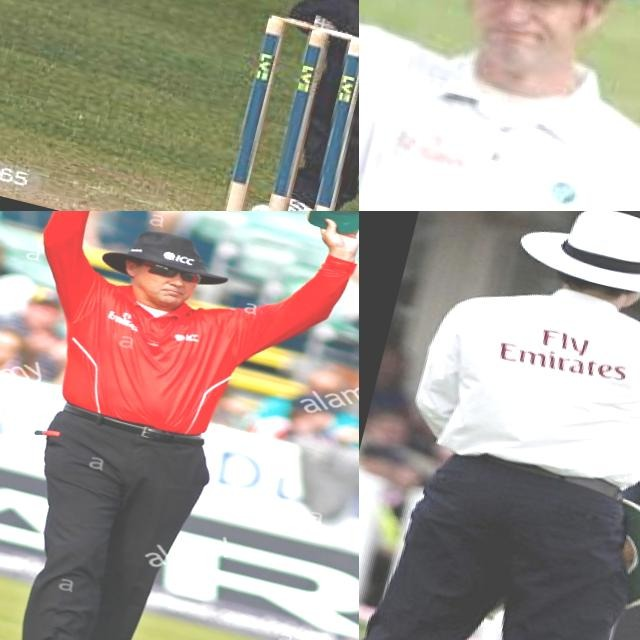No_Action: (161, 0, 359, 211)
Out: (359, 211, 640, 640), (359, 0, 640, 211)
Six: (0, 211, 359, 640)
